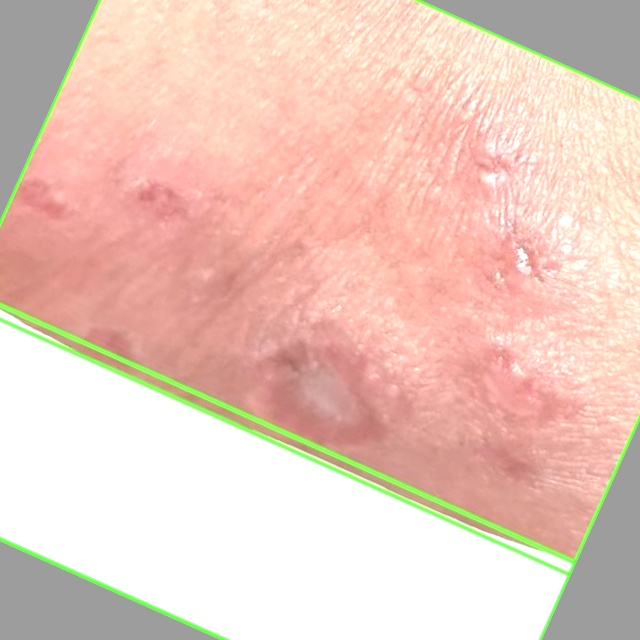Contact Dermatitis: (0, 0, 639, 574), (0, 306, 574, 639)
